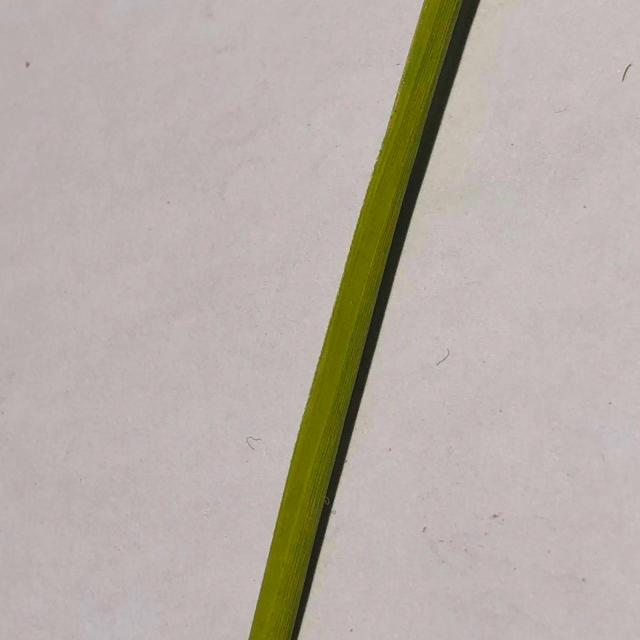healthy: (253, 0, 513, 638)
